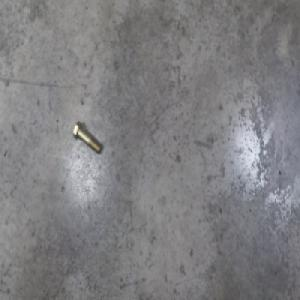Bolt: (72, 121, 101, 156)
